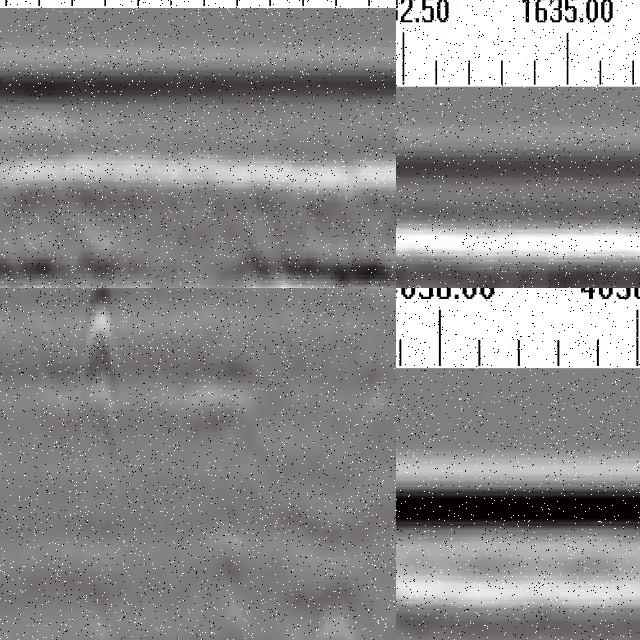crack: (74, 289, 123, 539)
loose: (224, 232, 397, 289)
